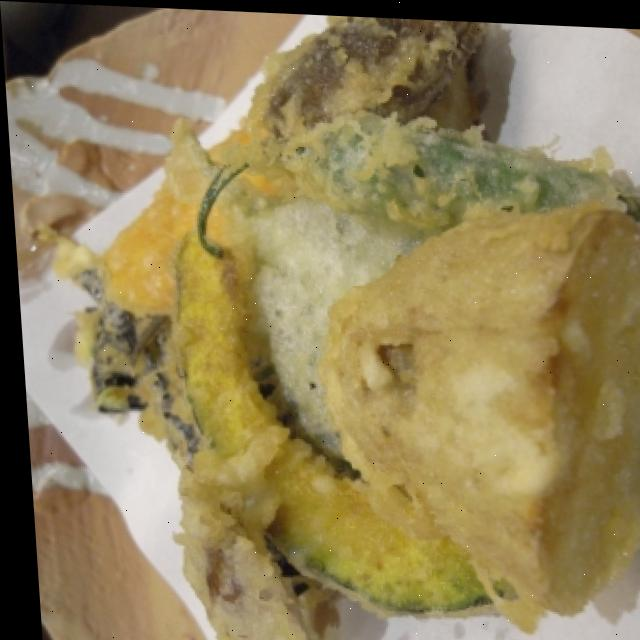蔬菜料理: (40, 1, 640, 640)
